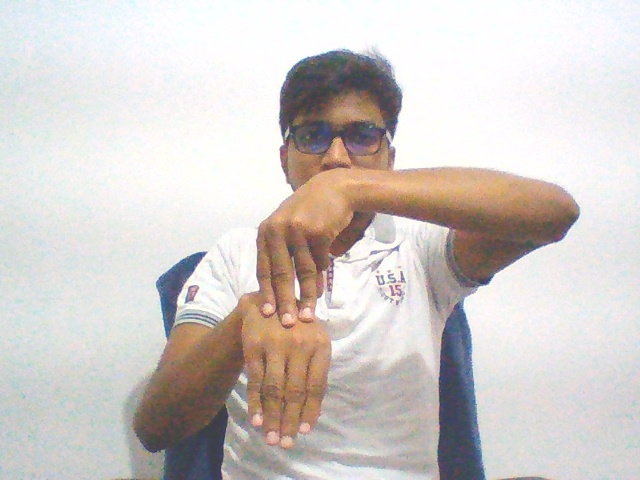papaya: (233, 163, 355, 454)
